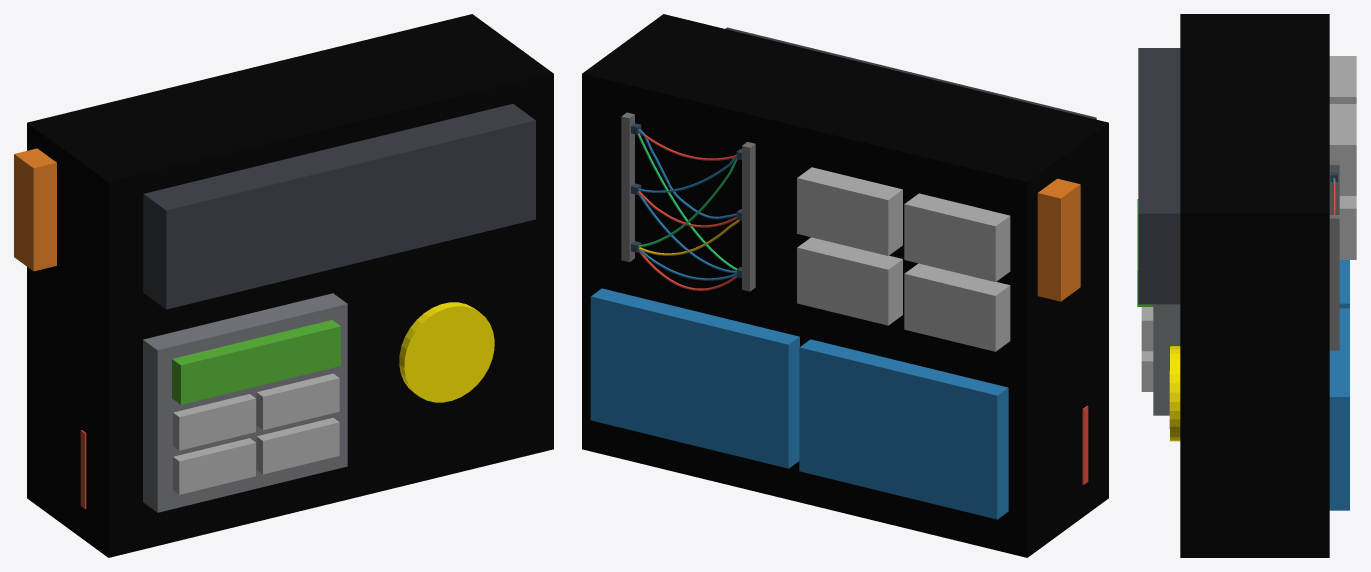
Rendered from bombBoxOficial.fbx.
3 renders of one model, left to right at view 1: azimuth 30°, elevation 25°; view 2: azimuth 150°, elevation 25°; view 3: azimuth 270°, elevation 25°, orthographic. The views are drawn at different scales.
Parts seen in each view (by area): view 1: boxBomb, TimerBox, btnSections, btnGreen, DetonarBtn, OrangeBtn, DerSupBtn, DerInfBtn, IzqInfBtn, IzqSupBtn; view 2: boxBomb, BtnTrasDer, BtnTrasIzq, btnTrasero2, btnTrasero4, btnTrasero1, btnTrasero3, OrangeBtn, TuboDer, TuboIzq, TimerBox; view 3: boxBomb, TimerBox, BtnTrasIzq, btnSections, btnTrasero1, TuboIzq, btnTrasero2, btnTrasero3, DetonarBtn, DerSupBtn, BtnTrasDer, DerInfBtn (+1 smaller).
Boxes of the visible parts, x1,y1,x2,y2 form: boxBomb: (27,14,553,557); TimerBox: (143,104,535,309); btnSections: (143,293,347,512); btnGreen: (172,320,340,404); DetonarBtn: (399,302,494,402); OrangeBtn: (14,148,56,271); DerSupBtn: (256,373,339,430); DerInfBtn: (256,417,339,474); IzqInfBtn: (173,438,255,494); IzqSupBtn: (173,394,255,450); boxBomb: (582,14,1108,557); BtnTrasDer: (799,339,1008,519); BtnTrasIzq: (590,288,799,468); btnTrasero2: (904,193,1010,281); btnTrasero4: (904,263,1010,351); btnTrasero1: (797,167,902,255); btnTrasero3: (797,237,902,325); OrangeBtn: (1037,178,1080,301); TuboDer: (742,142,755,291); TuboIzq: (621,112,634,262); TimerBox: (725,27,1096,119); boxBomb: (1180,14,1329,557); TimerBox: (1138,48,1180,304); BtnTrasIzq: (1329,308,1349,510); btnSections: (1153,304,1180,415); btnTrasero1: (1329,104,1356,195); TuboIzq: (1329,215,1339,350); btnTrasero2: (1329,56,1356,103); btnTrasero3: (1339,196,1356,259); DetonarBtn: (1169,346,1180,441); DerSupBtn: (1141,307,1153,351); BtnTrasDer: (1339,260,1349,308); DerInfBtn: (1141,351,1153,391).
Size of the model in its own units: 210 by 161 by 92.68.
